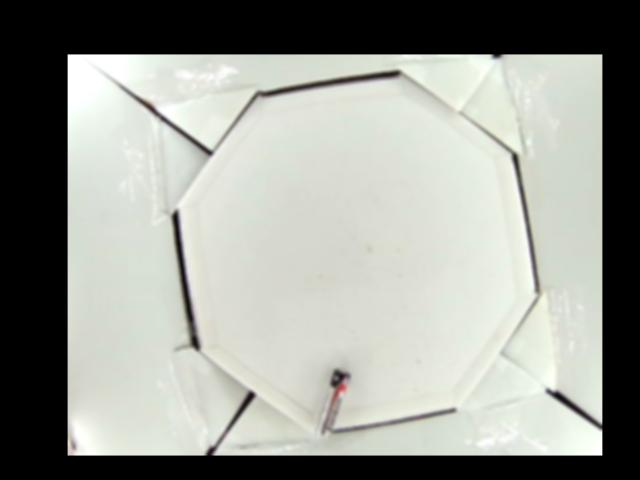Battery: (314, 369, 350, 438)
